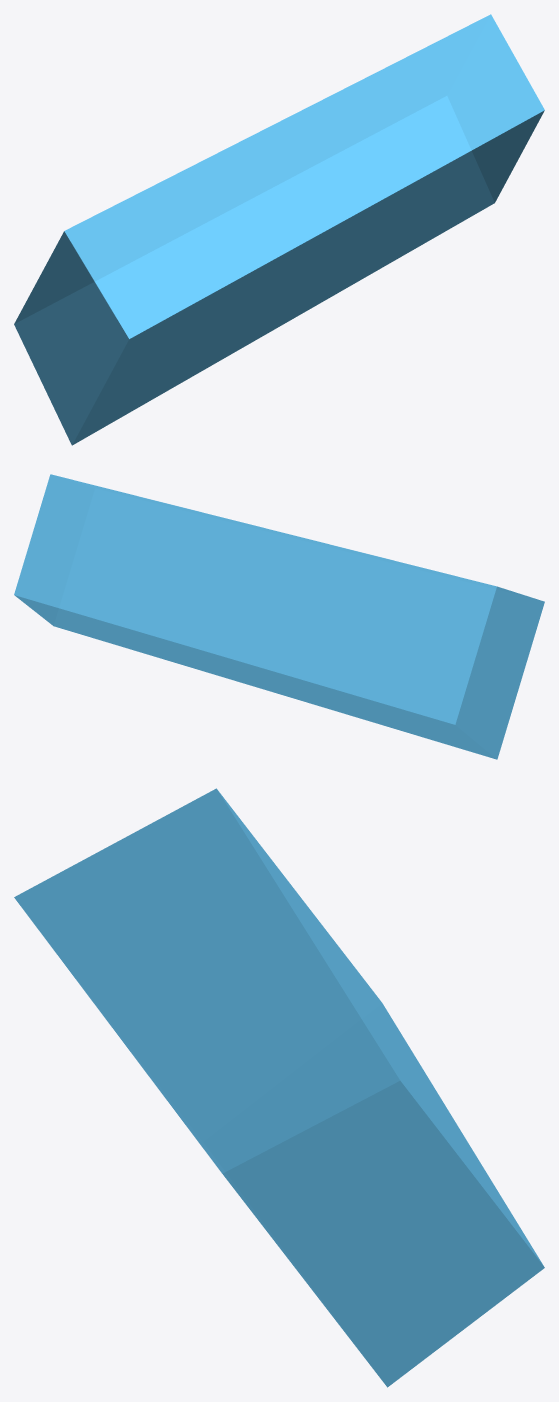
File: Event_421115418_HErechit_20.fbx
The picture shows the model from 3 angles, top to bottom: view 1: azimuth 30°, elevation 25°; view 2: azimuth 150°, elevation 25°; view 3: azimuth 270°, elevation 25°; orthographic projection. The views are drawn at different scales.
Parts seen in each view (by area): view 1: Model; view 2: Model; view 3: Model.
Part boxes in pixels (x1,y1,x2,y2): Model: (14, 14, 544, 445); Model: (14, 474, 544, 759); Model: (14, 788, 544, 1387).
Size of the model in its own units: 1.49 by 0.8009 by 0.8621.
